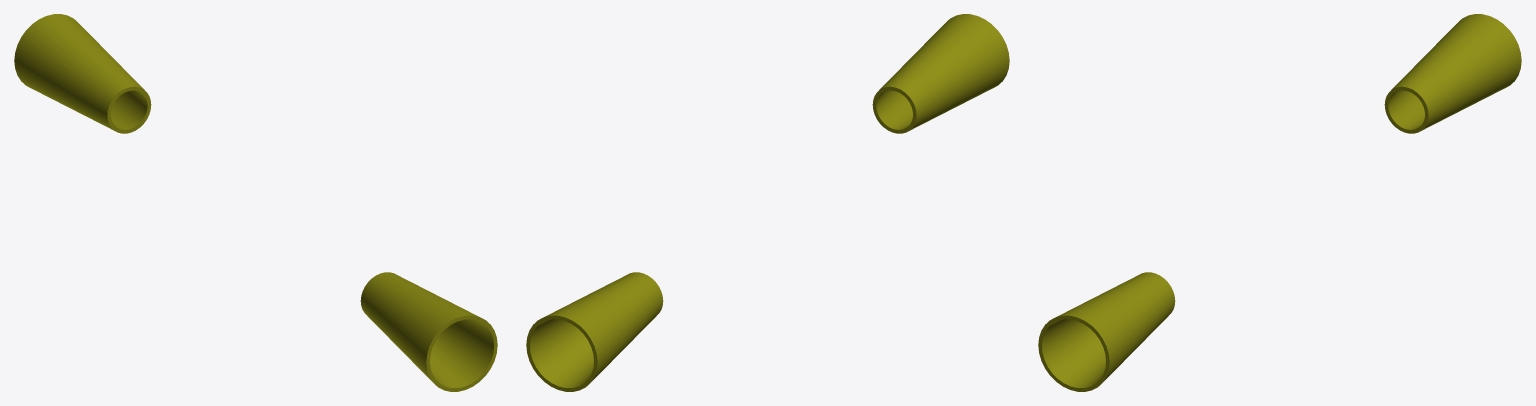
Rendered from ILD_FCCee_v02.gltf.
3 views of the same model, side by side, from view 1: azimuth 30°, elevation 25°; view 2: azimuth 150°, elevation 25°; view 3: azimuth 330°, elevation 25° (orthographic).
Parts seen in each view (by area): view 1: tube_CompSol_0, tube_CompSol_1; view 2: tube_CompSol_0, tube_CompSol_1; view 3: tube_CompSol_0, tube_CompSol_1.
Part boxes in pixels (x1=…): tube_CompSol_0: x1=360, y1=272, x2=497, y2=391; tube_CompSol_1: x1=14, y1=14, x2=151, y2=133; tube_CompSol_0: x1=872, y1=14, x2=1009, y2=133; tube_CompSol_1: x1=526, y1=272, x2=663, y2=391; tube_CompSol_0: x1=1038, y1=272, x2=1175, y2=391; tube_CompSol_1: x1=1384, y1=14, x2=1521, y2=133.
Size of the model in its own units: 40 by 39.78 by 400.
